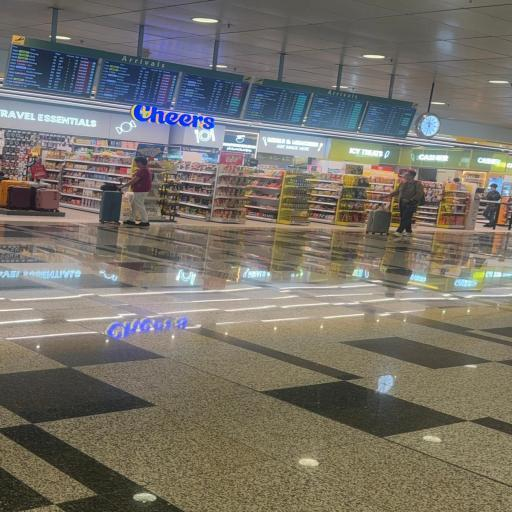person_left: (380, 172, 426, 238)
